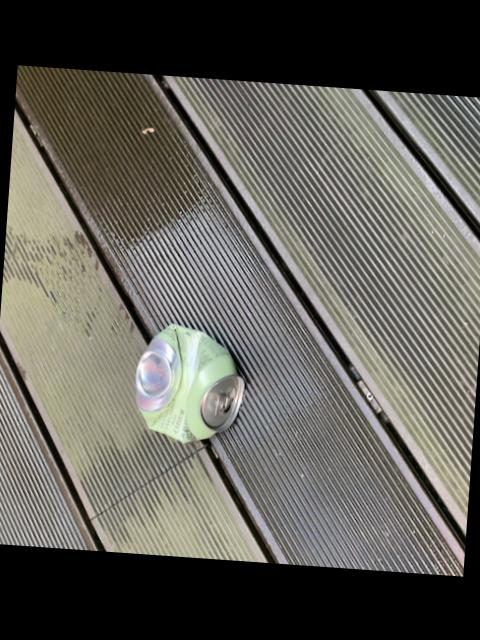metal: (134, 323, 242, 440)
